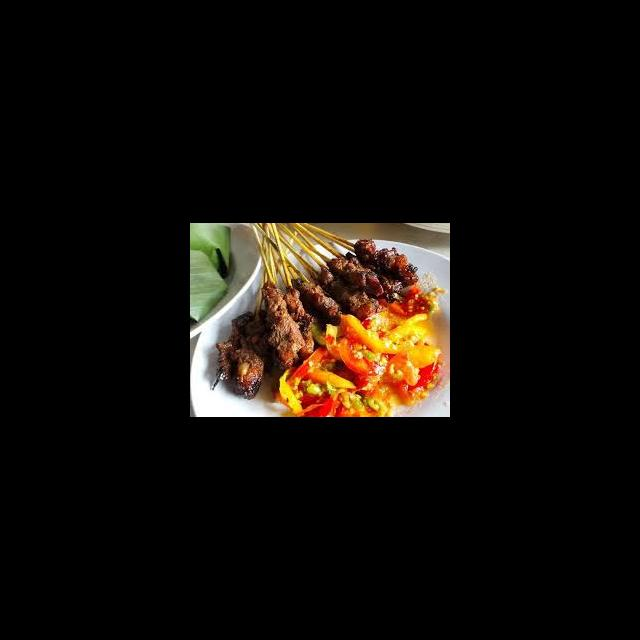food_waste: (273, 298, 410, 391)
